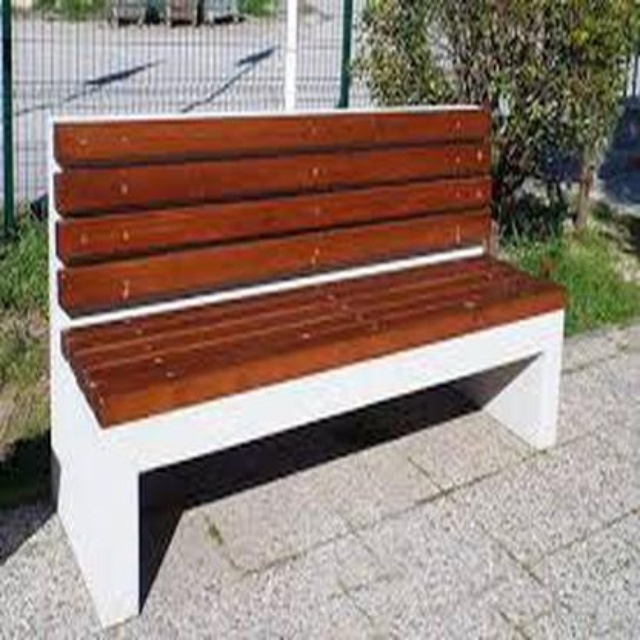obstacle: (42, 102, 594, 406)
